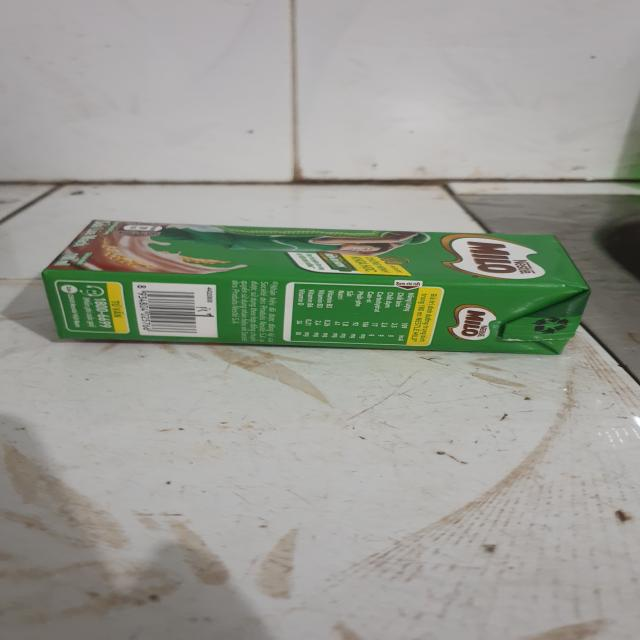Milo: (36, 218, 595, 358)
